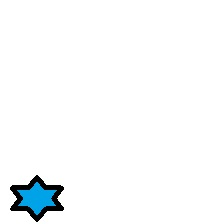star: (10, 175, 62, 220)
